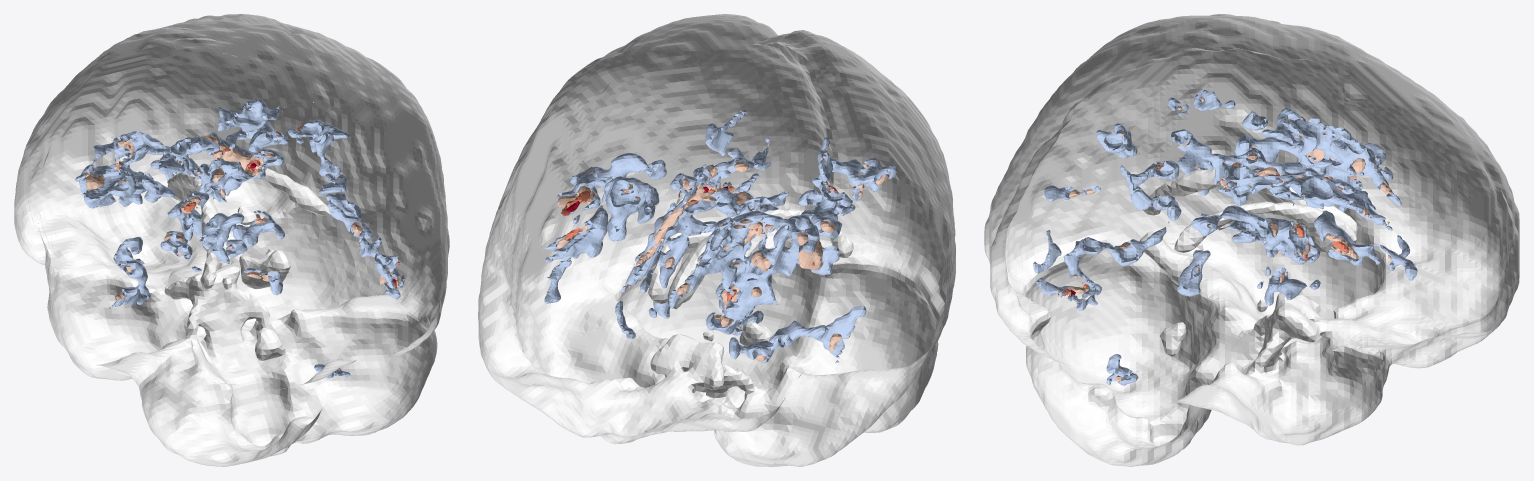
The picture shows the model from 3 angles, left to right: view 1: azimuth 30°, elevation 25°; view 2: azimuth 150°, elevation 25°; view 3: azimuth 270°, elevation 25°; orthographic projection. The views are drawn at different scales.
Parts seen in each view (by area): view 1: Renderer Node; view 2: Renderer Node; view 3: Renderer Node.
Boxes of the visible parts, x1,y1,x2,y2 form: Renderer Node: (14,14,449,466); Renderer Node: (478,14,955,466); Renderer Node: (984,14,1519,466).
Size of the model in its own units: 144 by 152 by 180.
Materials: 2 (2 with a texture image).
